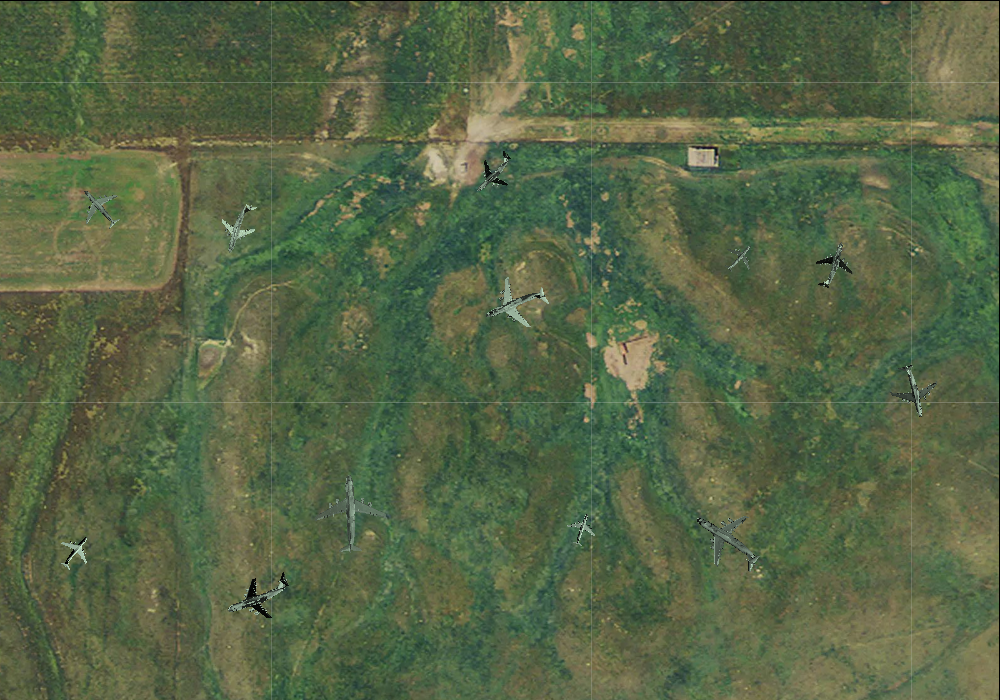plane: (676, 492, 777, 591), (473, 263, 558, 346), (216, 557, 299, 634), (311, 473, 388, 555), (882, 358, 945, 423), (461, 140, 524, 204), (68, 176, 131, 239), (210, 196, 268, 260), (804, 235, 861, 294), (49, 526, 101, 578), (716, 234, 761, 280), (561, 508, 602, 550)
